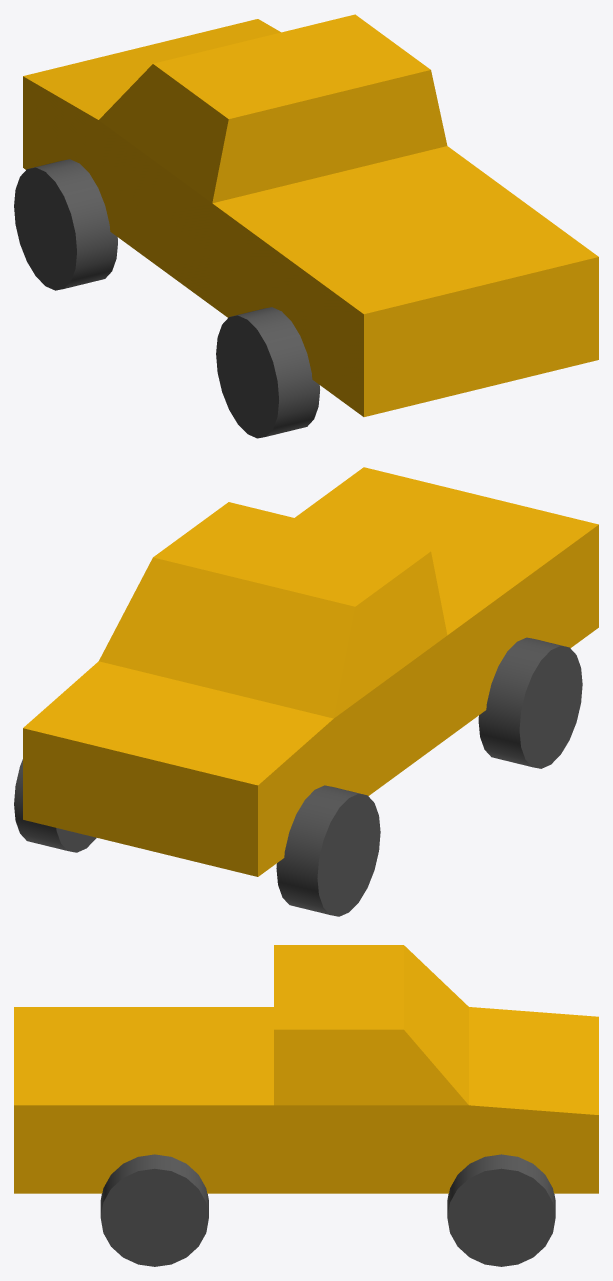
3 views of the same model, one above another, from view 1: azimuth 30°, elevation 25°; view 2: azimuth 150°, elevation 25°; view 3: azimuth 270°, elevation 25° (orthographic). The views are drawn at different scales.
Parts seen in each view (by area): view 1: Body, Wheel FL, Wheel RL; view 2: Body, Wheel RL, Wheel FL, Wheel FR; view 3: Body, Wheel RR, Wheel FR.
Boxes of the visible parts, <box> form: Body: <box>23,14,598,416</box>; Wheel FL: <box>14,159,117,290</box>; Wheel RL: <box>216,307,319,438</box>; Body: <box>23,467,598,876</box>; Wheel RL: <box>478,637,582,768</box>; Wheel FL: <box>276,785,380,916</box>; Wheel FR: <box>14,759,96,852</box>; Body: <box>14,945,598,1193</box>; Wheel RR: <box>100,1154,208,1266</box>; Wheel FR: <box>447,1154,555,1266</box>.
Bounding box in the file's own units: 2.77 × 2.2 × 5.4.
